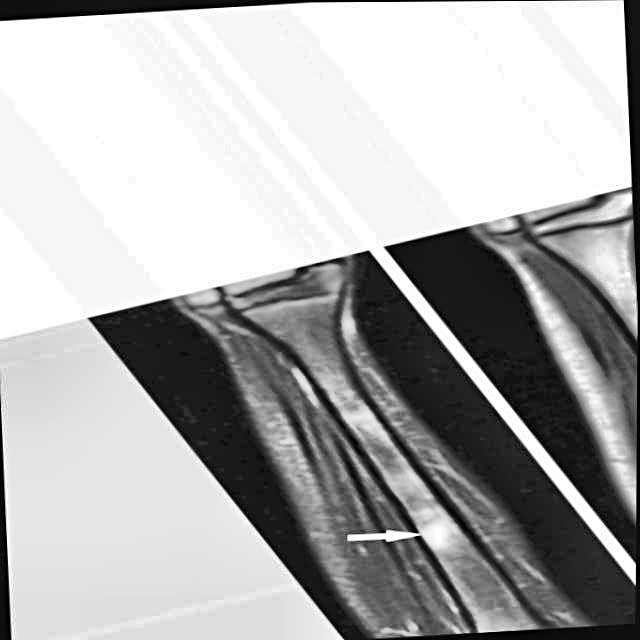Oblique Displaced: (416, 507, 461, 561)
